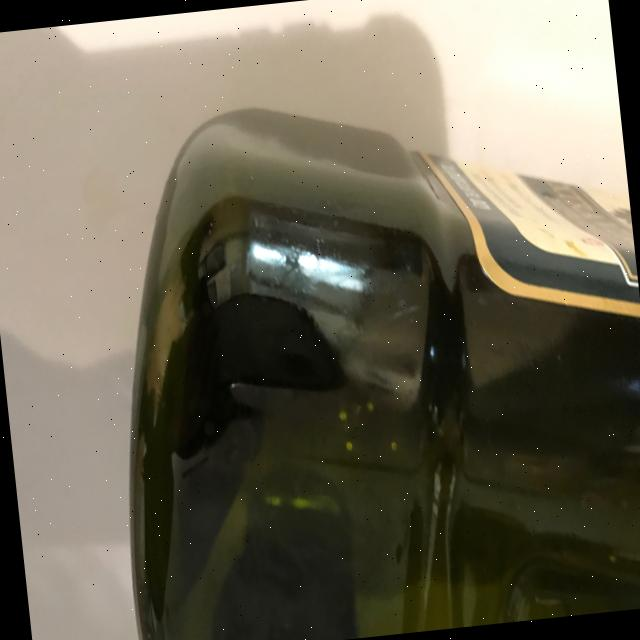plastic: (82, 67, 640, 640)
